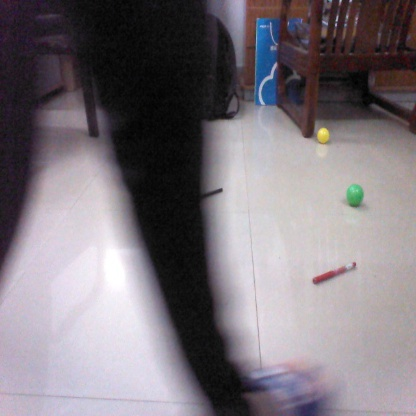ball: (346, 181, 368, 206), (315, 126, 332, 146)
pen: (311, 260, 357, 283)
